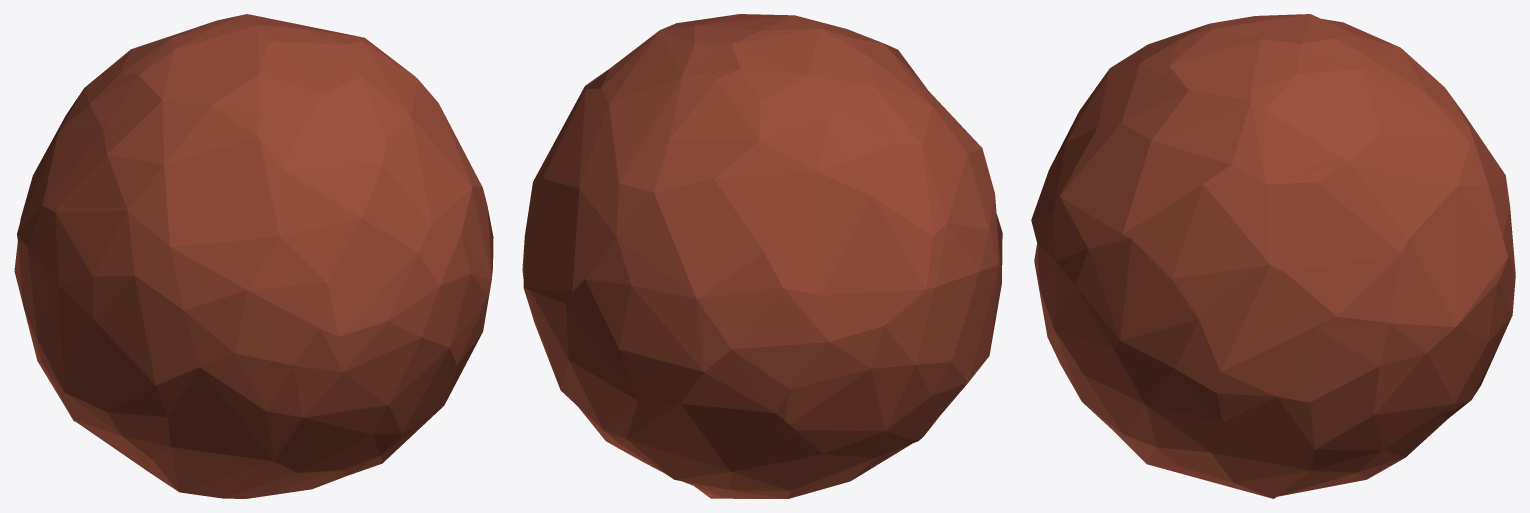
File: Mars-One_title_mars.FBX
3 renders of one model, left to right at view 1: azimuth 30°, elevation 25°; view 2: azimuth 150°, elevation 25°; view 3: azimuth 270°, elevation 25°, orthographic.
Visible parts, largest first — view 1: Object001; view 2: Object001; view 3: Object001.
Boxes of the visible parts, bbox=[...] form: Object001: bbox=[14, 14, 493, 498]; Object001: bbox=[522, 14, 1002, 498]; Object001: bbox=[1031, 14, 1515, 498].
Size of the model in its own units: 1.96 by 1.96 by 1.95.
